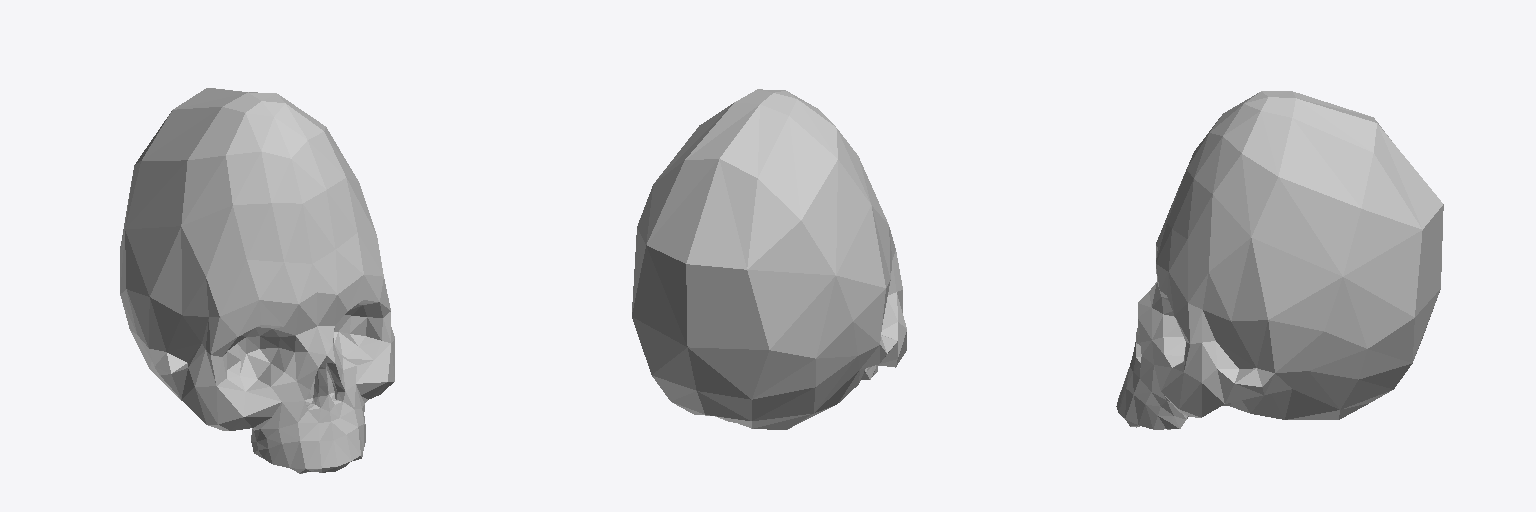
File: M_Skull_Tall.obj
The picture shows the model from 3 angles: view 1: azimuth 30°, elevation 25°; view 2: azimuth 150°, elevation 25°; view 3: azimuth 270°, elevation 25°; orthographic projection.
Bounding box in the file's own units: 29.06 × 39.36 × 36.72.